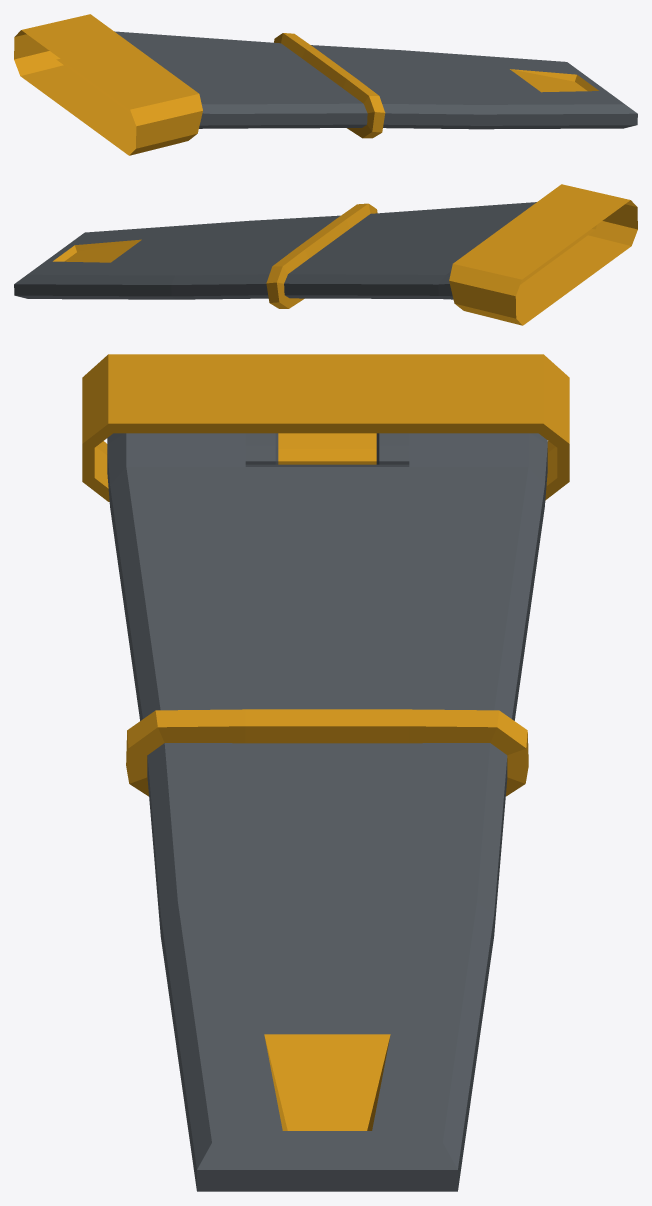
File: Fighter_04_Small_Wing_Left_Yellow.fbx
3 views of the same model, one above another, from view 1: azimuth 30°, elevation 25°; view 2: azimuth 150°, elevation 25°; view 3: azimuth 270°, elevation 25° (orthographic). The views are drawn at different scales.
Visible parts, largest first — view 1: Fighter_04_Small_Wing_Left_Yellow; view 2: Fighter_04_Small_Wing_Left_Yellow; view 3: Fighter_04_Small_Wing_Left_Yellow.
Boxes of the visible parts, x1,y1,x2,y2 form: Fighter_04_Small_Wing_Left_Yellow: [14, 14, 637, 155]; Fighter_04_Small_Wing_Left_Yellow: [14, 184, 637, 325]; Fighter_04_Small_Wing_Left_Yellow: [82, 354, 569, 1191].
Bounding box in the file's own units: 488 × 145 × 194.
1 material, 1 textured.
